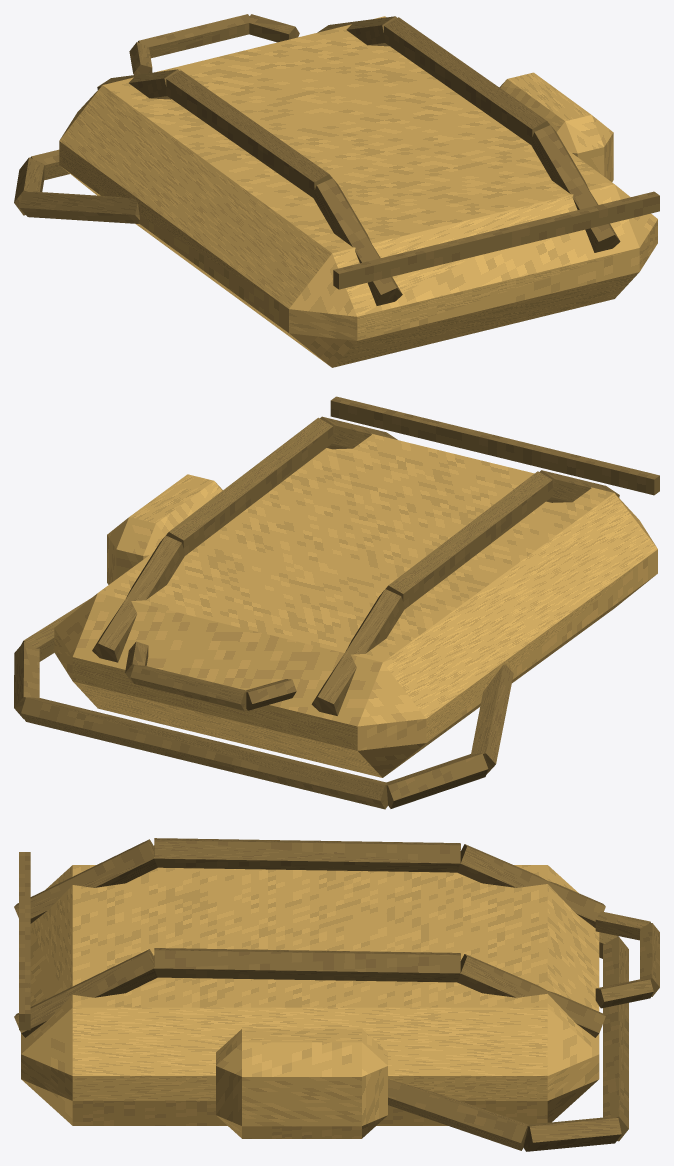
File: camera_bag.glb
The picture shows the model from 3 angles, top to bottom: view 1: azimuth 30°, elevation 25°; view 2: azimuth 150°, elevation 25°; view 3: azimuth 270°, elevation 25°; orthographic projection. The views are drawn at different scales.
Parts seen in each view (by area): view 1: block_bag shell, block_webbing strap 1 (×2), block_zipper, block_webbing strap 2 (×2), block_side pocket, block_long shoulder strap 0, block_carry handle 1, block_webbing strap 0 (×2), block_carry handle 2, block_long shoulder strap 1, block_carry handle 0, block_long shoulder strap 2; view 2: block_bag shell, block_webbing strap 1 (×2), block_long shoulder strap 2, block_zipper, block_webbing strap 0 (×2), block_side pocket, block_long shoulder strap 1, block_carry handle 1, block_long shoulder strap 0, block_webbing strap 2 (×2), block_long shoulder strap 3, block_carry handle 0 (+1 smaller); view 3: block_bag shell, block_webbing strap 1 (×2), block_side pocket, block_webbing strap 0 (×2), block_webbing strap 2 (×2), block_long shoulder strap 2, block_long shoulder strap 4, block_long shoulder strap 3, block_zipper, block_carry handle 2, block_carry handle 1, block_carry handle 0.
Boxes of the visible parts, x1,y1,x2,y2 form: block_bag shell: [59, 16, 657, 367]; block_webbing strap 1 (×2): [166, 17, 549, 198]; block_zipper: [333, 191, 659, 289]; block_webbing strap 2 (×2): [313, 125, 620, 305]; block_side pocket: [499, 72, 613, 181]; block_long shoulder strap 0: [19, 191, 139, 223]; block_carry handle 1: [138, 14, 249, 58]; block_webbing strap 0 (×2): [97, 16, 396, 99]; block_carry handle 2: [249, 14, 299, 42]; block_long shoulder strap 1: [14, 157, 44, 215]; block_carry handle 0: [129, 42, 152, 74]; block_long shoulder strap 2: [30, 149, 69, 180]; block_bag shell: [54, 433, 657, 777]; block_webbing strap 1 (×2): [166, 417, 552, 608]; block_long shoulder strap 2: [21, 697, 388, 809]; block_zipper: [330, 396, 659, 495]; block_webbing strap 0 (×2): [92, 535, 405, 715]; block_side pocket: [107, 474, 222, 584]; block_long shoulder strap 1: [386, 753, 488, 808]; block_carry handle 1: [130, 665, 246, 710]; block_long shoulder strap 0: [471, 664, 513, 774]; block_webbing strap 2 (×2): [320, 416, 619, 502]; block_long shoulder strap 3: [14, 642, 39, 718]; block_carry handle 0: [246, 679, 296, 710]; block_bag shell: [21, 865, 599, 1125]; block_webbing strap 1 (×2): [154, 838, 460, 982]; block_side pocket: [216, 1028, 387, 1138]; block_webbing strap 0 (×2): [457, 844, 605, 1037]; block_webbing strap 2 (×2): [14, 839, 157, 1037]; block_long shoulder strap 2: [603, 937, 628, 1141]; block_long shoulder strap 4: [388, 1079, 528, 1150]; block_long shoulder strap 3: [523, 1117, 621, 1151]; block_zipper: [19, 852, 30, 1030]; block_carry handle 2: [595, 979, 653, 1008]; block_carry handle 1: [640, 923, 659, 996]; block_carry handle 0: [595, 911, 650, 940].
Size of the model in its own units: 0.3332 by 0.1055 by 0.3826.
Materials: 1 (1 with a texture image).
